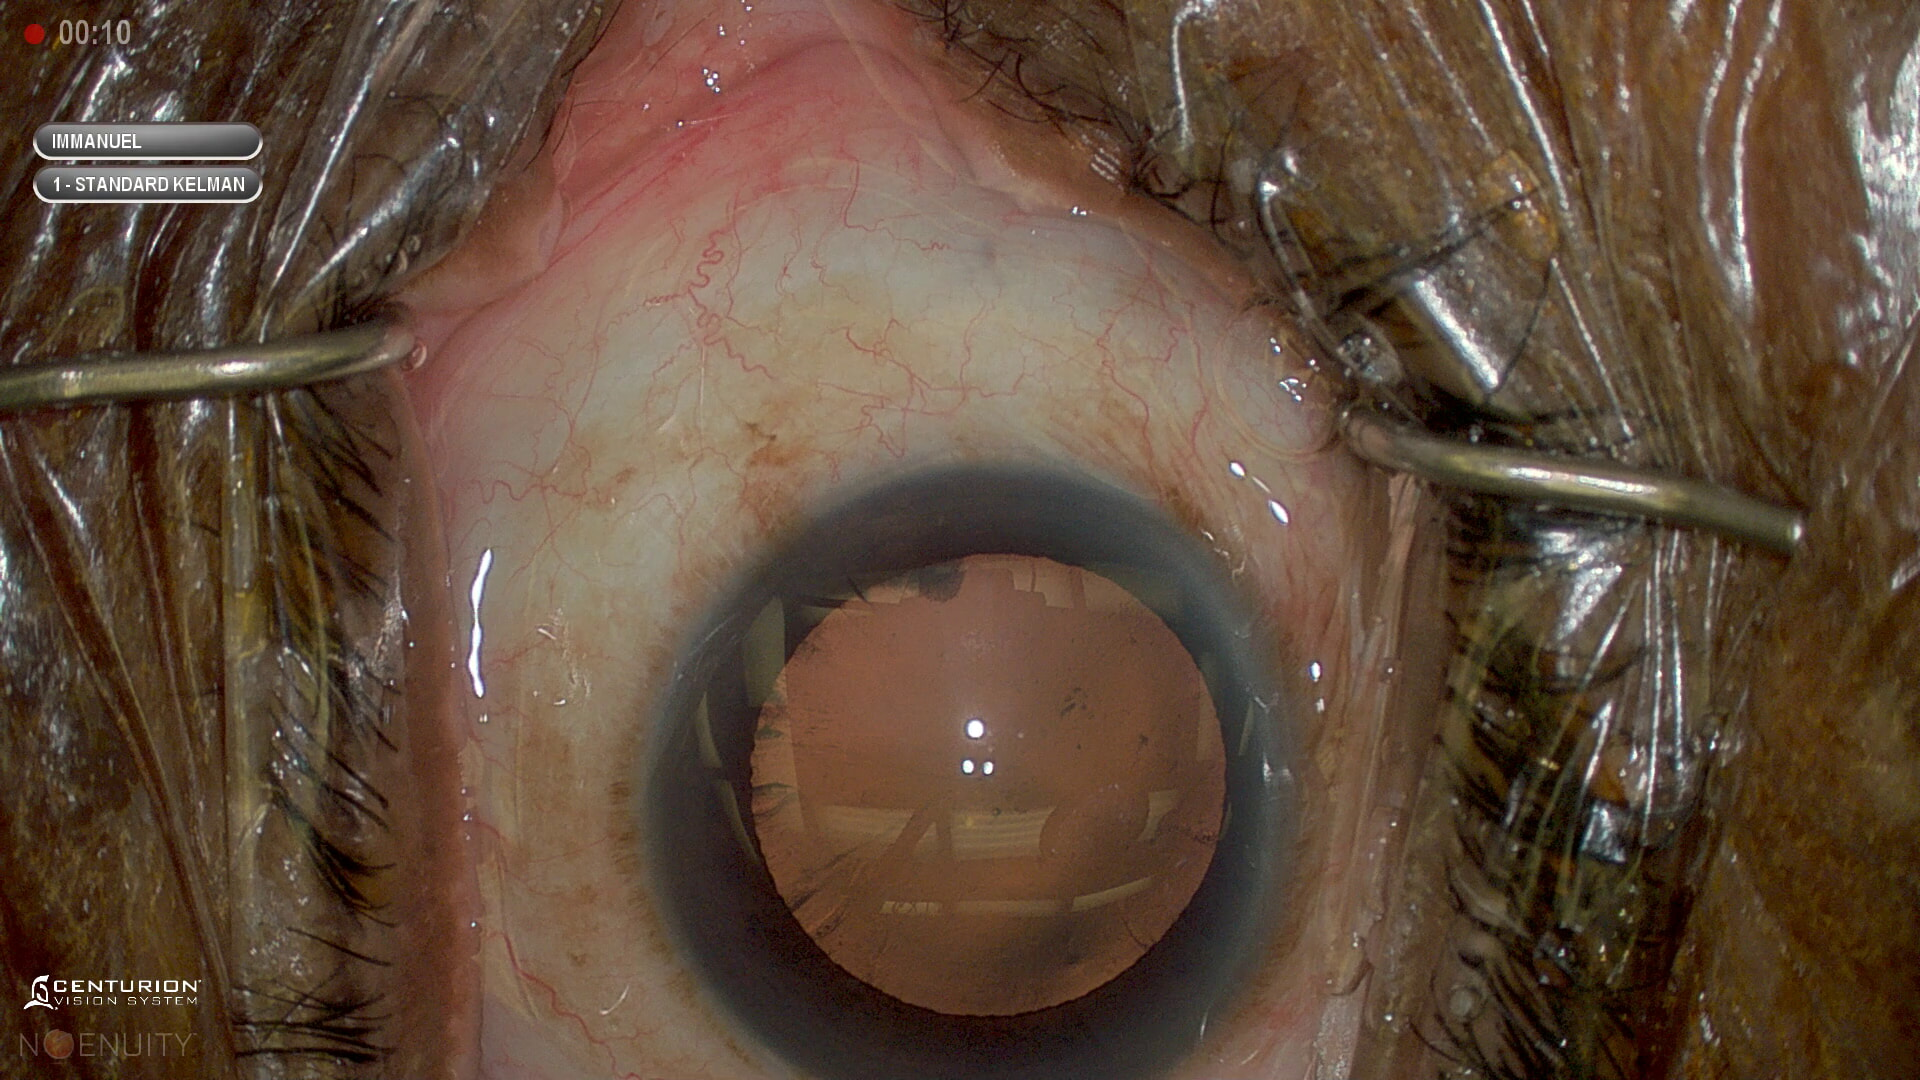iris: (632, 467, 1299, 1080)
pupil: (754, 551, 1235, 1014)
